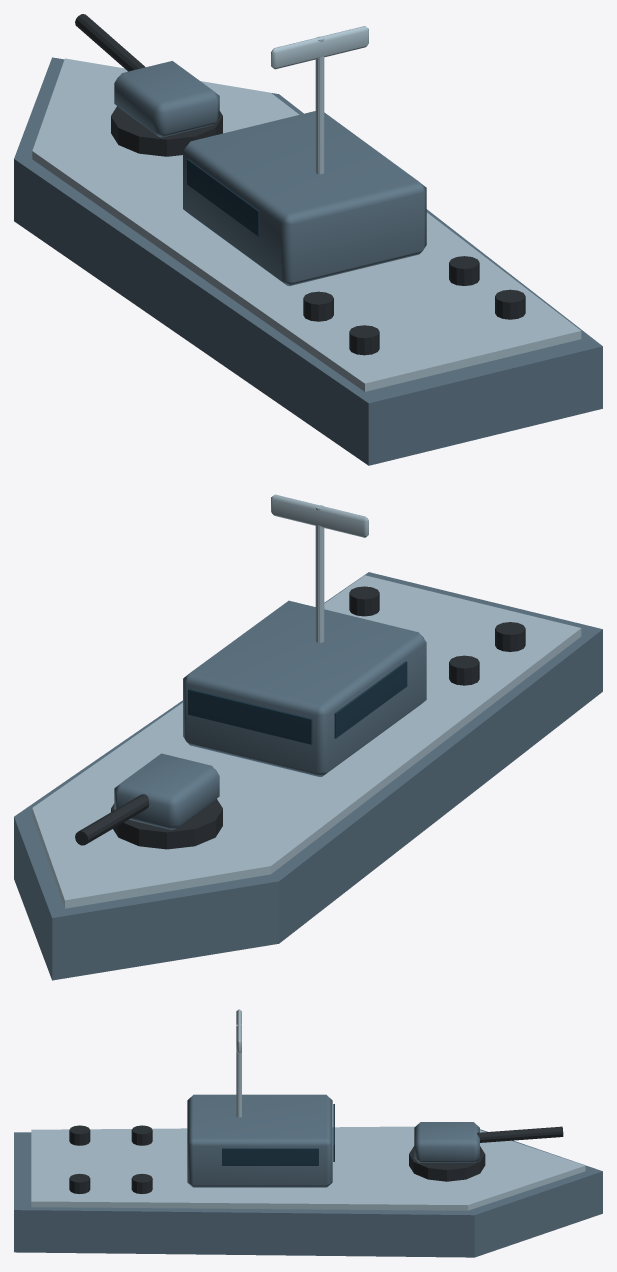
Rendered from boat.glb.
The picture shows the model from 3 angles, top to bottom: view 1: azimuth 30°, elevation 25°; view 2: azimuth 150°, elevation 25°; view 3: azimuth 270°, elevation 25°; orthographic projection. The views are drawn at different scales.
Visible parts, largest first — view 1: Raised perimeter deck, Deep angular hull, Armored cabin, Forward gun turret, Turret ring, Radar array, Bridge side windows, Naval gun barrel, Radar mast, Deck ventilation.002, Deck ventilation.001, Deck ventilation (+1 smaller); view 2: Raised perimeter deck, Deep angular hull, Armored cabin, Forward gun turret, Bridge windows front, Turret ring, Radar array, Bridge side windows, Naval gun barrel, Radar mast, Deck ventilation.002, Deck ventilation (+1 smaller); view 3: Deep angular hull, Raised perimeter deck, Armored cabin, Forward gun turret, Bridge side windows.001, Turret ring, Naval gun barrel, Deck ventilation.001, Deck ventilation, Deck ventilation.002, Deck ventilation.003, Radar mast.
Part boxes in pixels (<box>): Raised perimeter deck: <box>32,58,581,391</box>; Deep angular hull: <box>14,57,602,465</box>; Armored cabin: <box>183,111,426,286</box>; Forward gun turret: <box>114,61,219,137</box>; Turret ring: <box>111,106,222,156</box>; Radar array: <box>271,26,368,69</box>; Bridge side windows: <box>187,159,259,236</box>; Naval gun barrel: <box>75,14,145,71</box>; Radar mast: <box>315,36,324,174</box>; Deck ventilation.002: <box>495,289,525,319</box>; Deck ventilation.001: <box>303,291,333,321</box>; Deck ventilation: <box>349,325,379,355</box>; Raised perimeter deck: <box>32,575,581,908</box>; Deep angular hull: <box>14,572,602,980</box>; Armored cabin: <box>183,600,426,776</box>; Forward gun turret: <box>114,753,219,829</box>; Bridge windows front: <box>188,689,312,744</box>; Turret ring: <box>111,799,222,849</box>; Radar array: <box>271,494,368,537</box>; Bridge side windows: <box>334,661,407,738</box>; Naval gun barrel: <box>75,794,149,845</box>; Radar mast: <box>315,505,324,642</box>; Deck ventilation.002: <box>349,586,379,616</box>; Deck ventilation: <box>495,622,525,651</box>; Deep angular hull: <box>14,1129,602,1257</box>; Raised perimeter deck: <box>31,1126,585,1210</box>; Armored cabin: <box>187,1094,332,1187</box>; Forward gun turret: <box>414,1122,479,1162</box>; Bridge side windows.001: <box>222,1148,318,1165</box>; Turret ring: <box>409,1146,485,1181</box>; Naval gun barrel: <box>477,1126,563,1142</box>; Deck ventilation.001: <box>131,1125,152,1145</box>; Deck ventilation: <box>69,1125,90,1145</box>; Deck ventilation.002: <box>69,1173,90,1193</box>; Deck ventilation.003: <box>131,1173,152,1193</box>; Radar mast: <box>236,1024,241,1117</box>.
Size of the model in its own units: 6 by 6.02 by 17.
